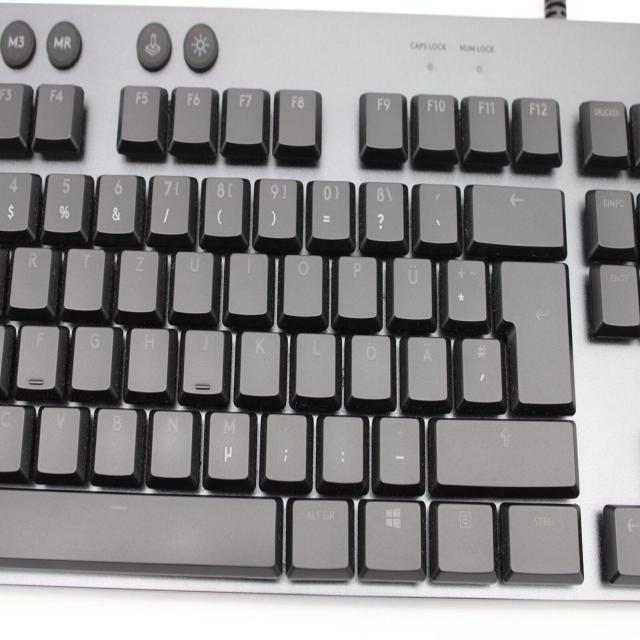0: (308, 175, 353, 241)
4: (0, 166, 31, 231)
5: (41, 168, 85, 233)
6: (94, 169, 139, 235)
7: (147, 170, 191, 236)
8: (200, 172, 245, 238)
9: (255, 173, 299, 238)
accent: (416, 177, 459, 243)
ae: (405, 332, 448, 401)
altgr-right: (288, 494, 351, 572)
b: (92, 403, 138, 475)
comma: (262, 409, 308, 481)
del: (467, 181, 565, 247)
enter: (496, 257, 574, 407)
f: (15, 323, 59, 392)
g: (70, 321, 114, 390)
h: (126, 323, 170, 392)
hash: (460, 333, 503, 402)
i: (226, 249, 269, 314)
j: (181, 325, 225, 396)
k: (238, 327, 281, 396)
keyboard: (1, 4, 638, 608)
l: (294, 329, 337, 398)
m: (204, 406, 251, 480)
minus: (376, 412, 421, 484)
n: (148, 404, 195, 478)
o: (281, 250, 324, 316)
oe: (349, 330, 392, 399)
p: (335, 252, 378, 318)
plus: (445, 254, 487, 320)
point: (320, 411, 365, 483)
r: (8, 242, 52, 308)
shift-right: (427, 414, 578, 488)
space: (3, 486, 280, 567)
ss: (361, 176, 405, 242)
strg-right: (503, 499, 583, 576)
t: (62, 244, 104, 309)
u: (171, 247, 214, 313)
ue: (390, 253, 433, 319)
v: (35, 401, 80, 473)
z: (116, 246, 159, 312)
